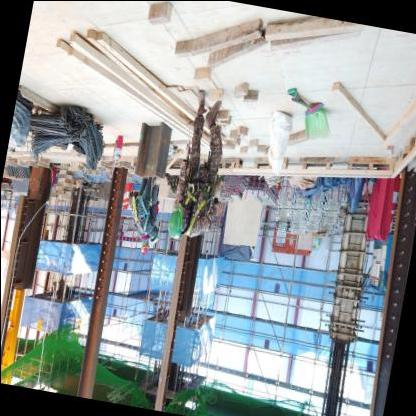Helmet: (163, 197, 190, 244)
safety-shoe: (204, 95, 227, 124), (192, 85, 209, 114)
